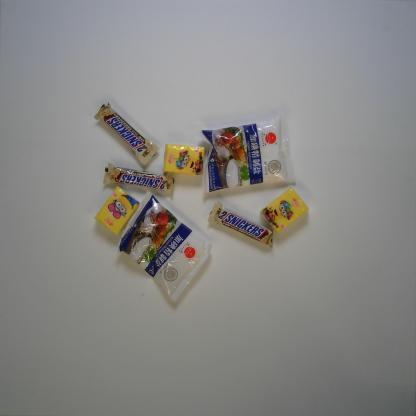Chocolate: (94, 102, 160, 166), (206, 200, 274, 249), (103, 163, 175, 195)
Seasoner: (117, 190, 213, 302), (199, 115, 297, 194)
Tissue: (94, 184, 141, 235), (260, 186, 310, 233), (163, 143, 205, 176)
